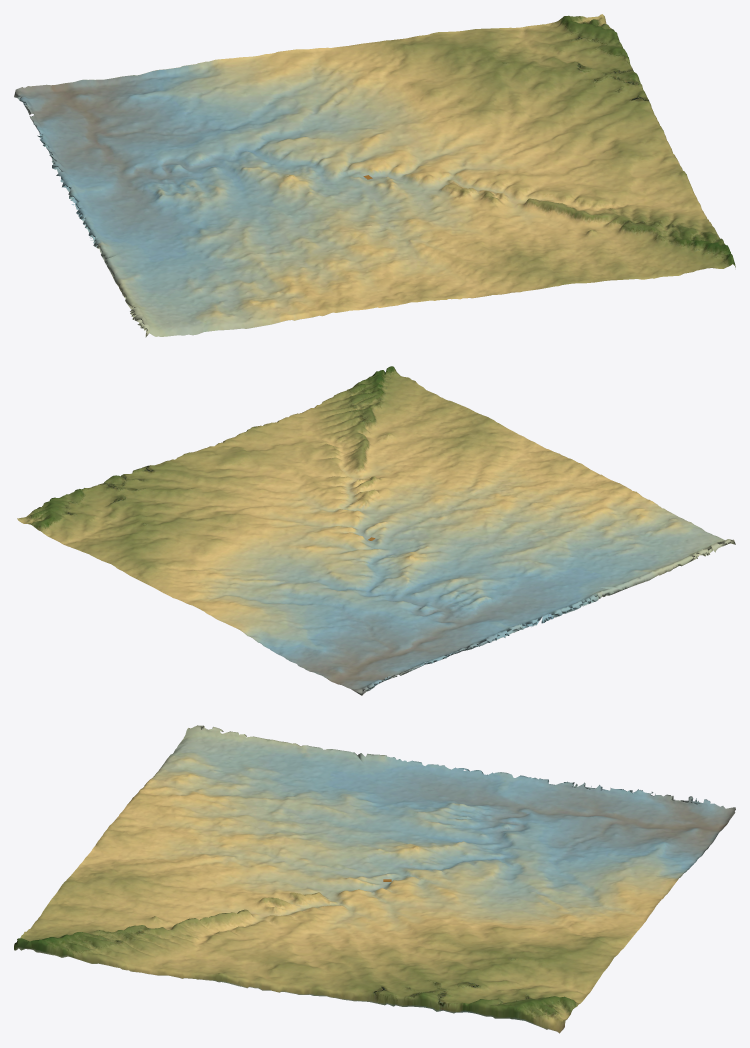
Rendered from level_1.glb.
3 views of the same model, one above another, from view 1: azimuth 30°, elevation 25°; view 2: azimuth 150°, elevation 25°; view 3: azimuth 270°, elevation 25° (orthographic). The views are drawn at different scales.
Parts seen in each view (by area): view 1: Terrain; view 2: Terrain; view 3: Terrain.
Boxes of the visible parts, <box> form: Terrain: <box>14,14,735,337</box>; Terrain: <box>17,366,735,695</box>; Terrain: <box>14,725,735,1033</box>.
Size of what is drawn, in the model's own units: 2555 by 128 by 2555.
Materials: 2 (2 with a texture image).
